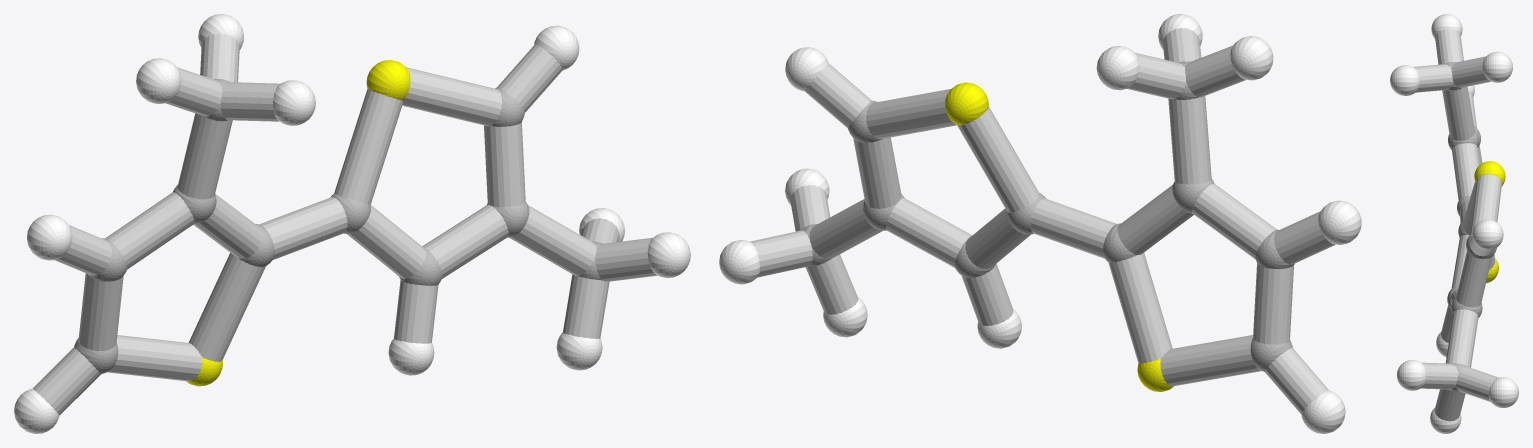
Rendered from color.glb.
3 renders of one model, left to right at view 1: azimuth 30°, elevation 25°; view 2: azimuth 150°, elevation 25°; view 3: azimuth 270°, elevation 25°, orthographic. The views are drawn at different scales.
Visible parts, largest first — view 1: grp7965, grp3621, grp1, grp7241; view 2: grp7965, grp3621, grp1, grp7241; view 3: grp7965, grp3621, grp1, grp7241.
Part boxes in pixels (left/top/right/bottom): grp7965: left=33, top=33, right=656, bottom=415; grp3621: left=14, top=14, right=690, bottom=433; grp1: left=74, top=78, right=602, bottom=374; grp7241: left=186, top=60, right=410, bottom=386; grp7965: left=750, top=28, right=1335, bottom=414; grp3621: left=719, top=14, right=1361, bottom=433; grp1: left=801, top=61, right=1294, bottom=371; grp7241: left=945, top=82, right=1173, bottom=391; grp7965: left=1413, top=28, right=1501, bottom=421; grp3621: left=1390, top=14, right=1518, bottom=433; grp1: left=1445, top=62, right=1496, bottom=391; grp7241: left=1474, top=161, right=1505, bottom=283.
Size of the model in its own units: 9.41 by 5.9 by 2.48.
